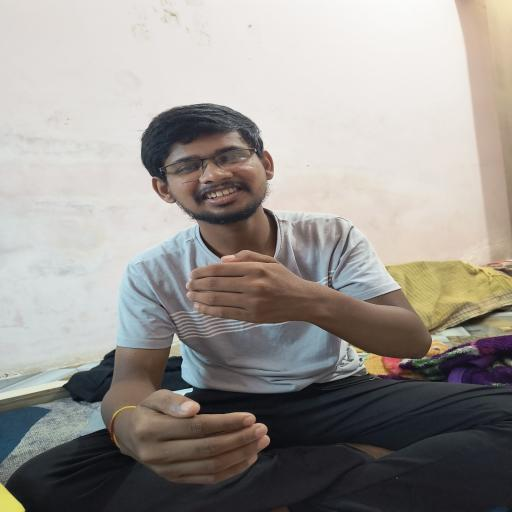Good: (124, 234, 336, 486)
